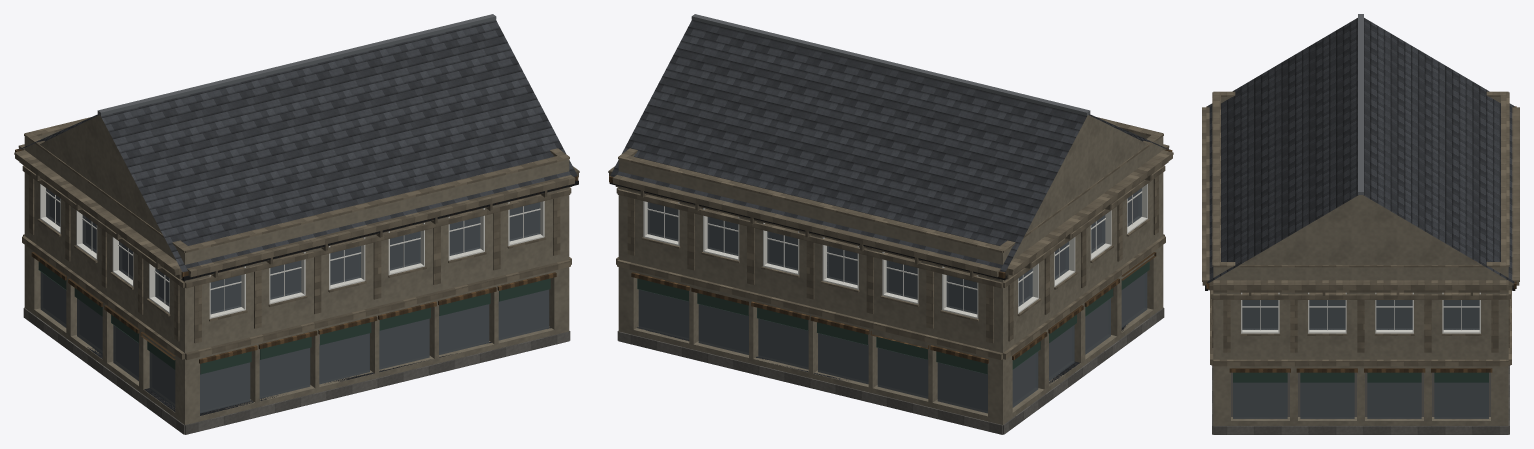
Rendered from A_shop_small.glb.
The picture shows the model from 3 angles, left to right: view 1: azimuth 30°, elevation 25°; view 2: azimuth 150°, elevation 25°; view 3: azimuth 270°, elevation 25°; orthographic projection. The views are drawn at different scales.
Visible parts, largest first — view 1: A_shop_small; view 2: A_shop_small; view 3: A_shop_small.
Boxes of the visible parts, x1,y1,x2,y2 form: A_shop_small: (14,14,579,434); A_shop_small: (608,14,1173,434); A_shop_small: (1202,14,1519,434).
Bounding box in the file's own units: 18.98 × 11.89 × 13.98.
Materials: 14 (9 with a texture image).
